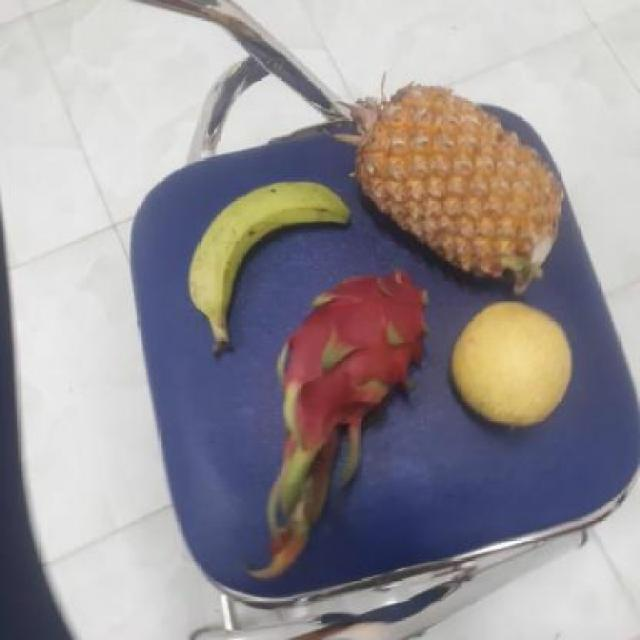banana: (192, 176, 358, 336)
dragon fruit: (278, 271, 439, 447)
guava: (451, 306, 580, 426)
pineapple: (357, 86, 566, 296)
